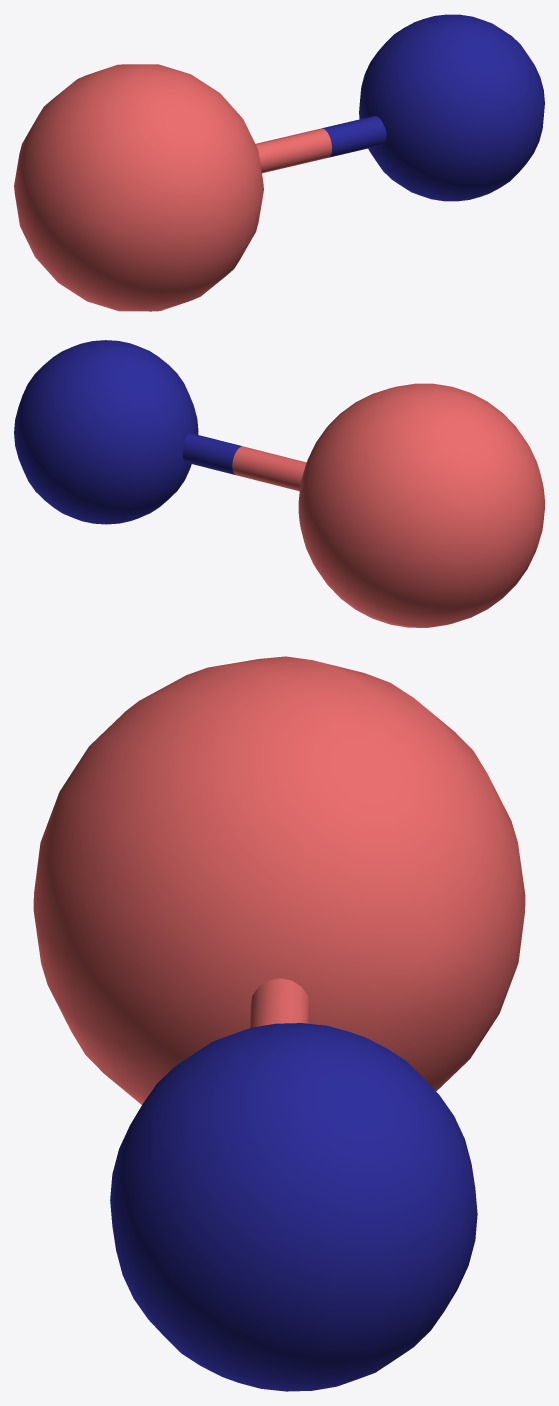
3 renders of one model, top to bottom at view 1: azimuth 30°, elevation 25°; view 2: azimuth 150°, elevation 25°; view 3: azimuth 270°, elevation 25°, orthographic. The views are drawn at different scales.
Visible parts, largest first — view 1: BN; view 2: BN; view 3: BN.
Part boxes in pixels (x1,y1,x2,y2): BN: (14,14,544,311); BN: (14,340,544,627); BN: (33,656,525,1391).
Size of the model in its own units: 6.23 by 2.67 by 2.67.
